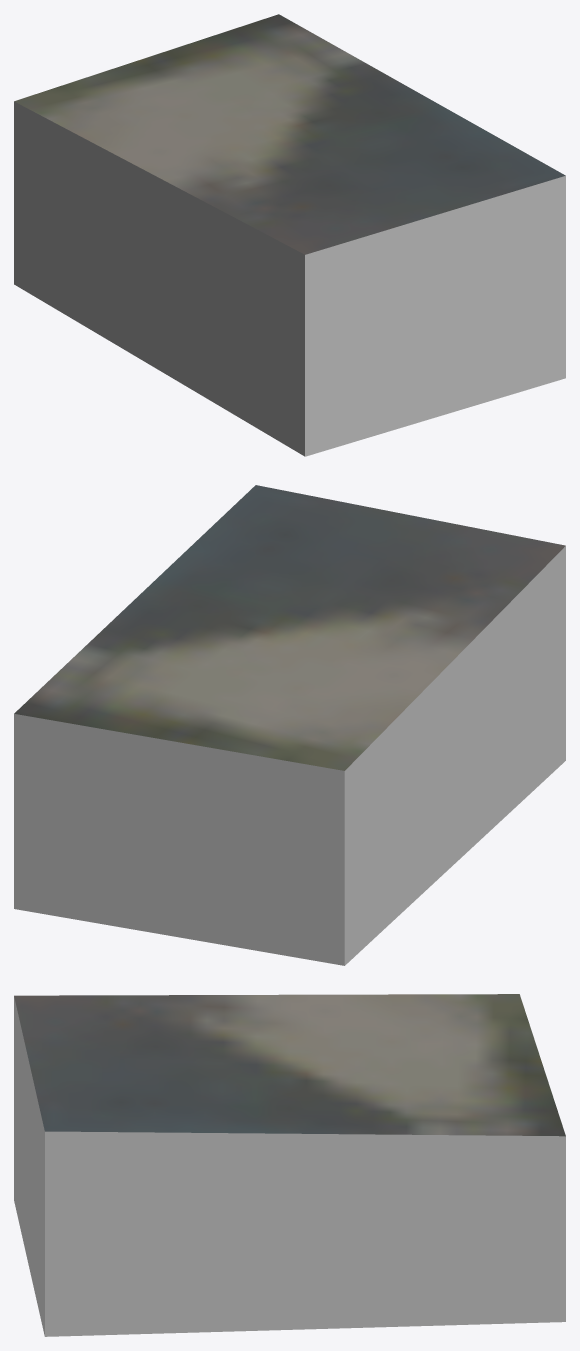
File: DEBW_0010007TxdM.gltf
The picture shows the model from 3 angles, top to bottom: view 1: azimuth 30°, elevation 25°; view 2: azimuth 150°, elevation 25°; view 3: azimuth 270°, elevation 25°; orthographic projection. The views are drawn at different scales.
Visible parts, largest first — view 1: Z_UP; view 2: Z_UP; view 3: Z_UP.
Part boxes in pixels (x1=…): Z_UP: x1=14, y1=14, x2=565, y2=456; Z_UP: x1=14, y1=485, x2=565, y2=965; Z_UP: x1=14, y1=994, x2=565, y2=1336.
Bounding box in the file's own units: 4.34 × 2.64 × 6.44.
2 materials, 1 textured.
